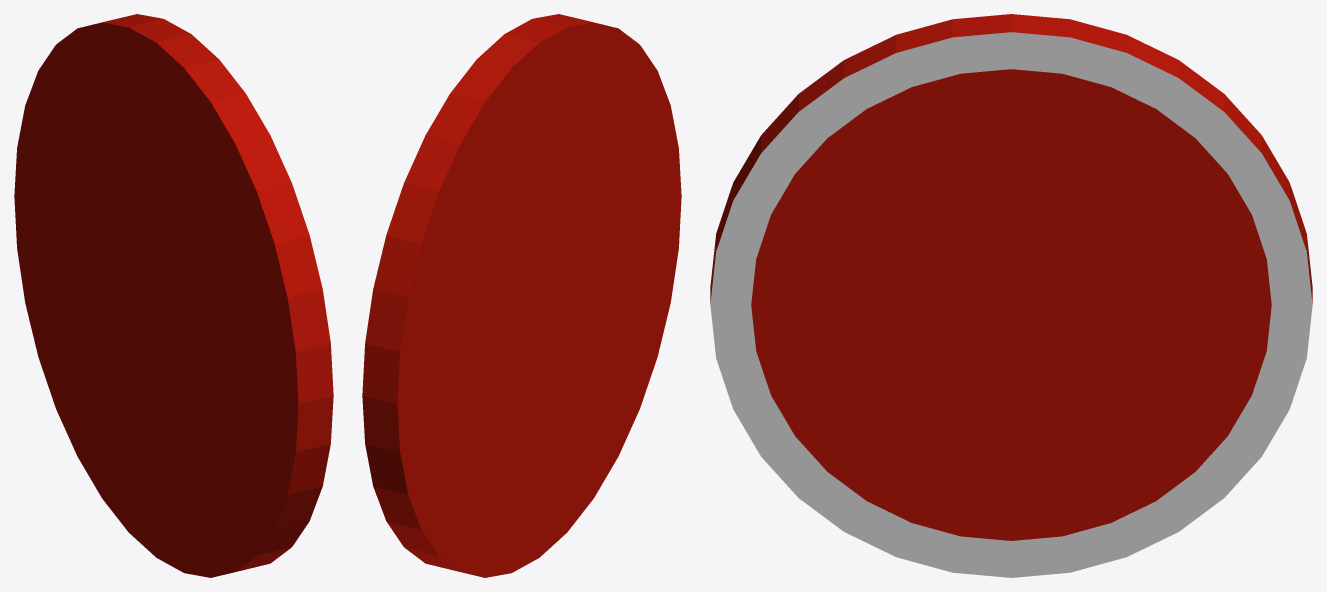
The model's file is construction_sign2.fbx.
3 renders of one model, left to right at view 1: azimuth 30°, elevation 25°; view 2: azimuth 150°, elevation 25°; view 3: azimuth 270°, elevation 25°, orthographic. The views are drawn at different scales.
Parts seen in each view (by area): view 1: Circle.001; view 2: Circle.001; view 3: Circle.001.
Boxes of the visible parts, bbox=[...] form: Circle.001: bbox=[14, 14, 333, 577]; Circle.001: bbox=[362, 14, 681, 577]; Circle.001: bbox=[710, 14, 1312, 577].
Bounding box in the file's own units: 19.06 × 267 × 267.
